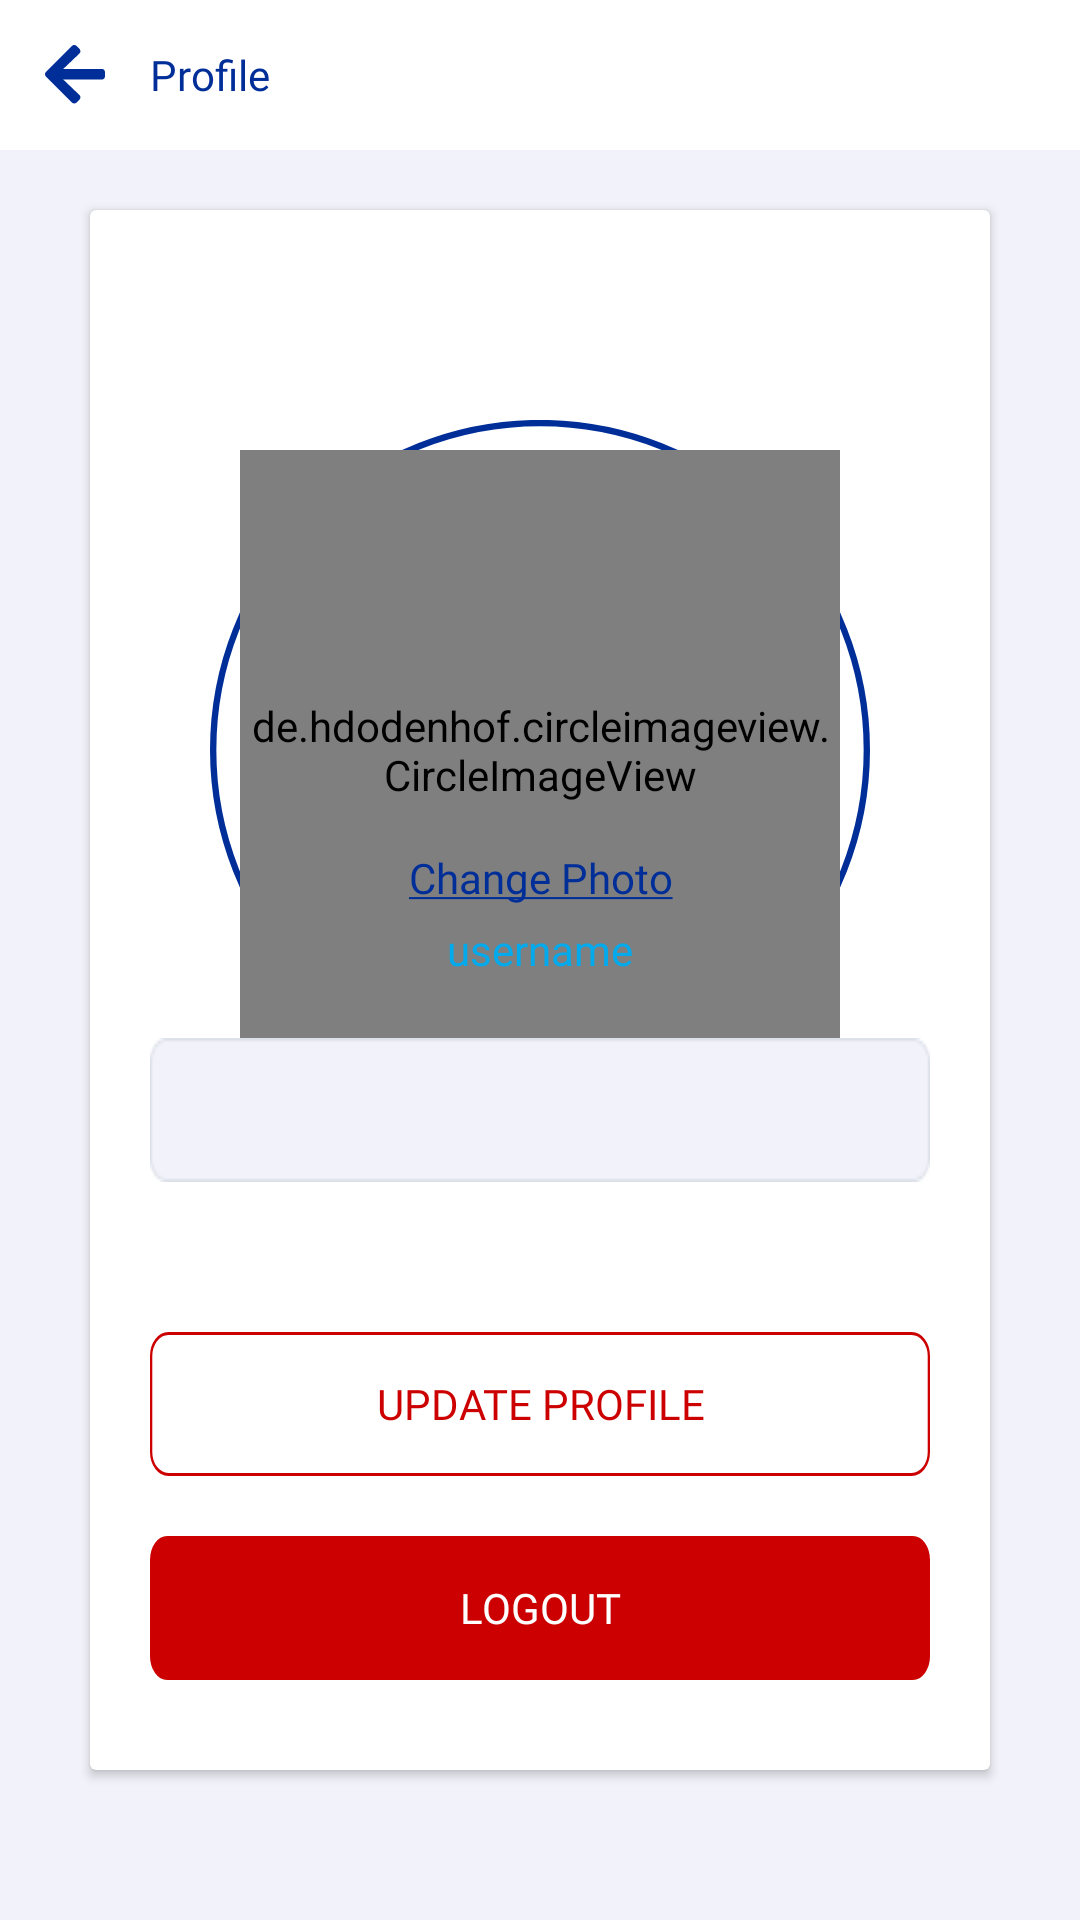

Where icons sit on this 1080px×1920px app screen, as (x1=x1, y1=y1, x2=x2, y2=y2):
arrow back: (x1=45, y1=45, x2=105, y2=104)
